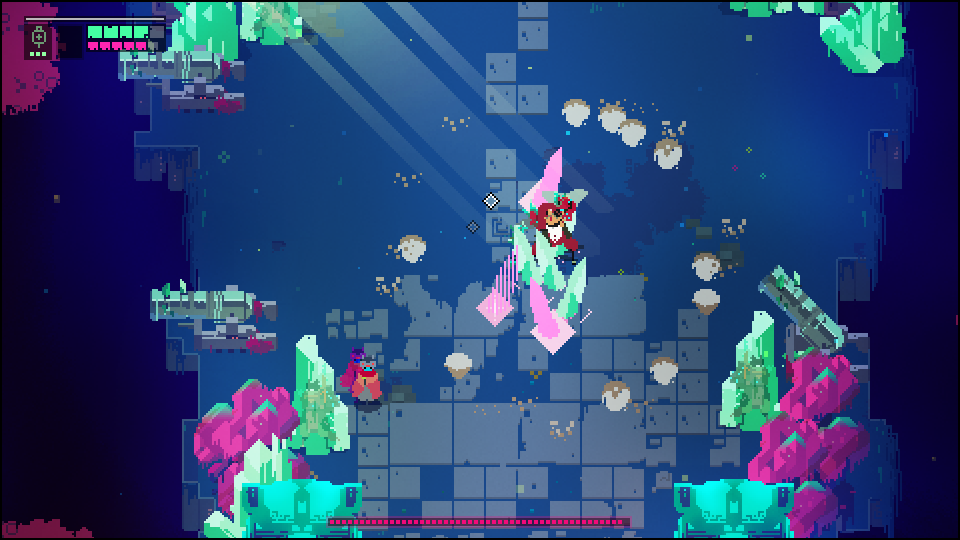hanged_crys: (486, 246, 520, 316), (562, 253, 592, 319), (524, 285, 554, 344), (533, 142, 562, 200)
hanged_man: (528, 187, 585, 244)
player: (348, 355, 381, 408)
